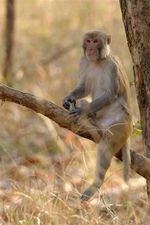monkey: (45, 20, 150, 189)
